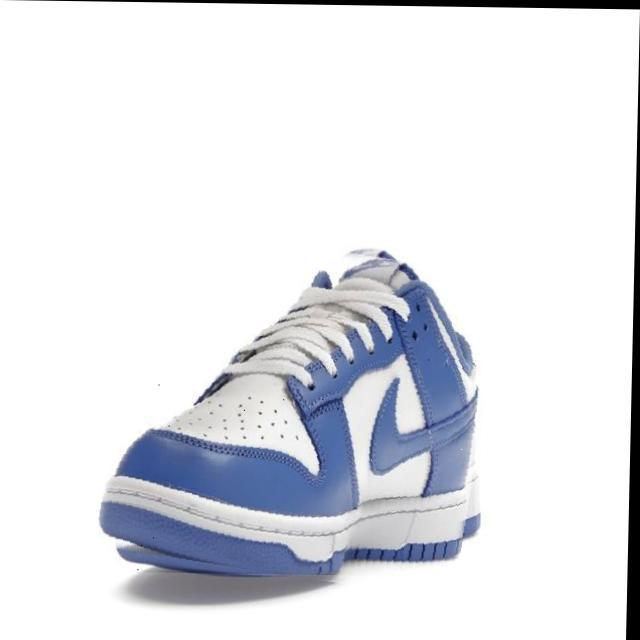J1_MateComp: (98, 245, 482, 577)
J1_StitchPattern: (98, 472, 482, 566), (193, 254, 416, 404), (147, 424, 319, 478)
